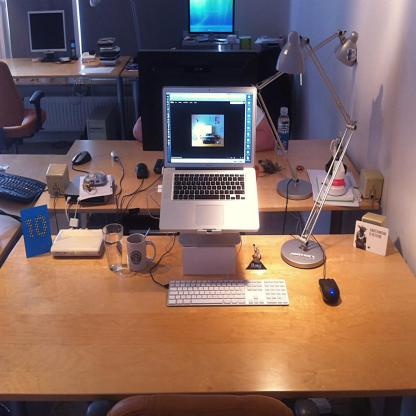board: (160, 85, 260, 234)
